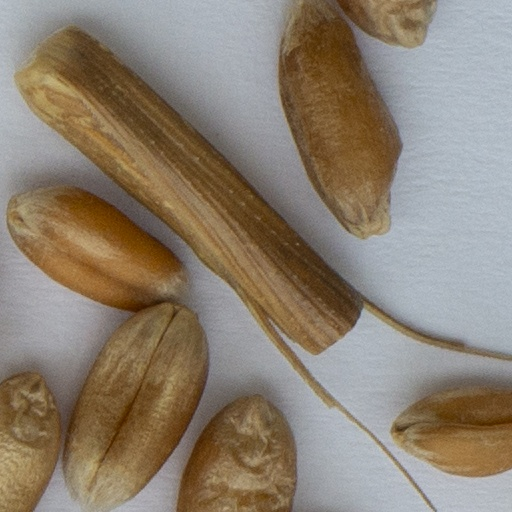Peel-poly: (15, 23, 511, 511)
